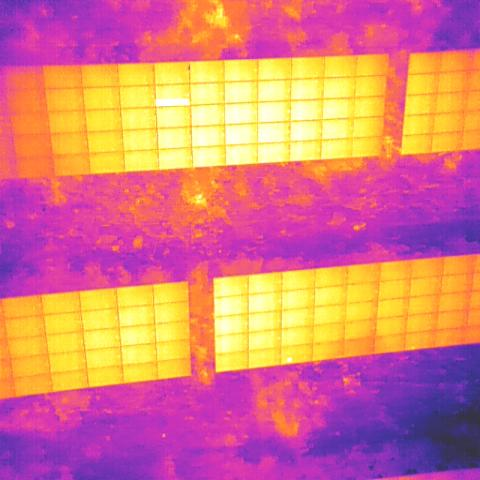fault: (154, 99, 190, 106), (286, 356, 293, 364)
